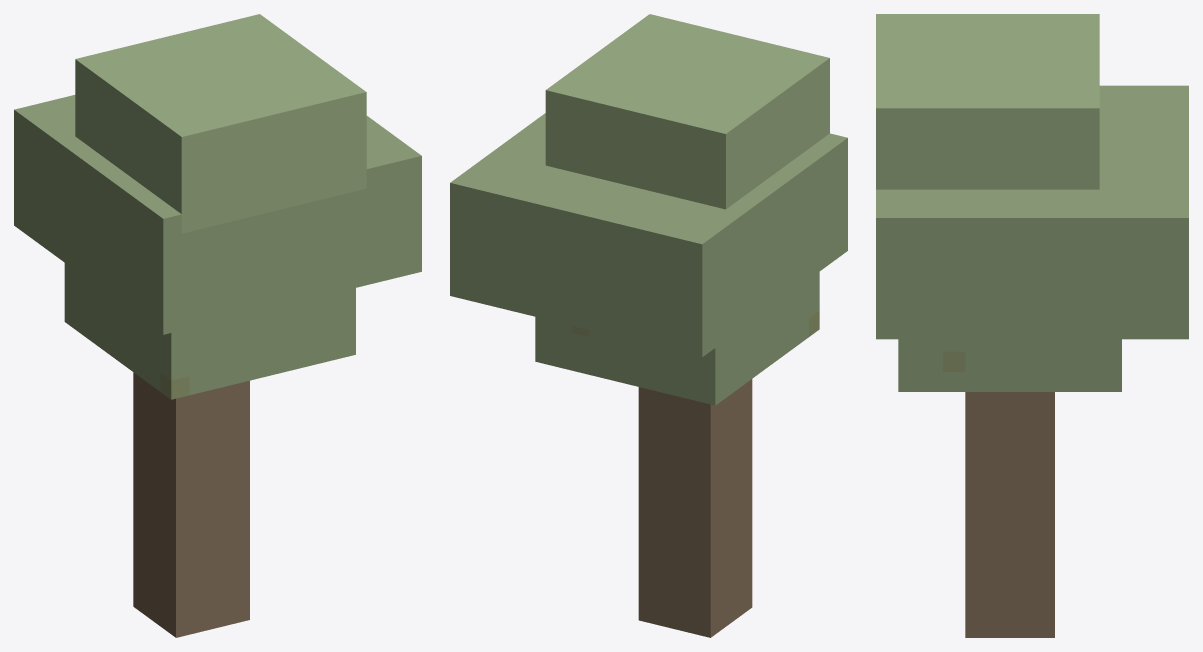
File: olivo_02.glb
The picture shows the model from 3 angles, left to right: view 1: azimuth 30°, elevation 25°; view 2: azimuth 150°, elevation 25°; view 3: azimuth 270°, elevation 25°; orthographic projection. The views are drawn at different scales.
Parts seen in each view (by area): view 1: olivo_02; view 2: olivo_02; view 3: olivo_02.
Part boxes in pixels (x1,y1,x2,y2): olivo_02: (14, 14, 421, 637); olivo_02: (450, 14, 847, 637); olivo_02: (876, 14, 1188, 637).
Bounding box in the file's own units: 1.4 × 2.8 × 1.4.
